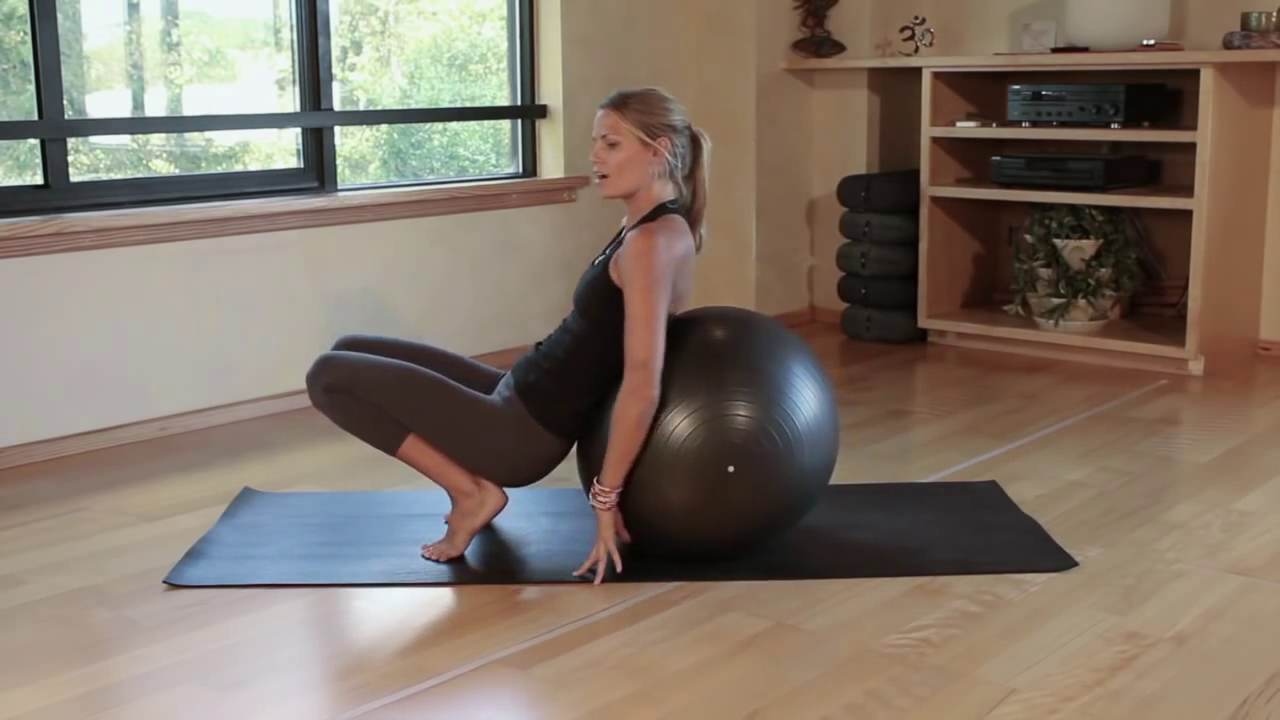yogaball: (570, 299, 846, 554)
